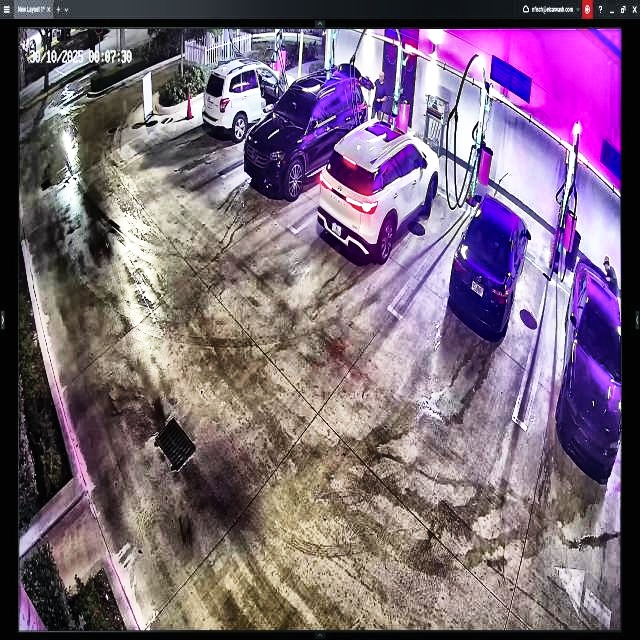Car: (245, 66, 374, 197), (320, 119, 439, 256), (451, 195, 532, 338)
